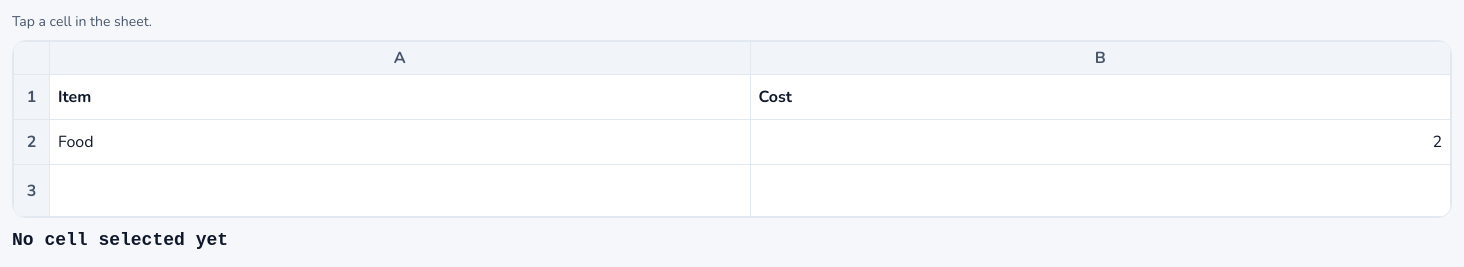
Scenario: cell select (spreadsheet) › shows column letters and row numbers, and selects a cell
This screenshot has width=1464, height=267.
Expected: the column heading "A" is shown, [50,42,750,74]
Click the button named "B2: 2". click: (1437, 142)
box: [750,120,1450,164]
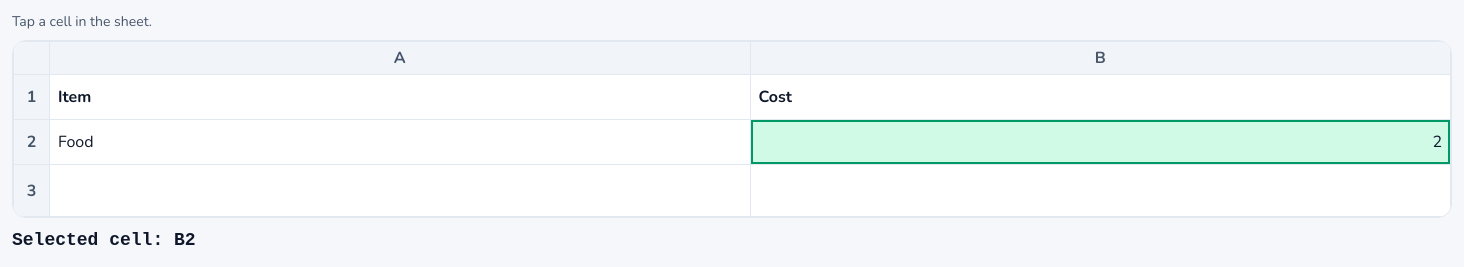
Expected: the button named "B3" is shown, [750,165,1450,209]
Expected: the text "Selected cell: B2" is shown, [12,230,196,250]
